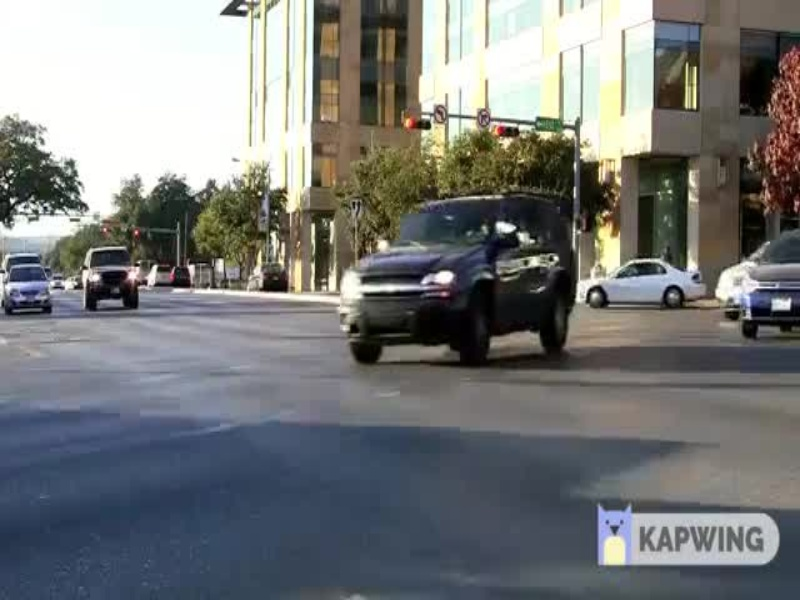car: (335, 189, 587, 375), (576, 253, 711, 311), (75, 235, 148, 322), (1, 267, 69, 316)
